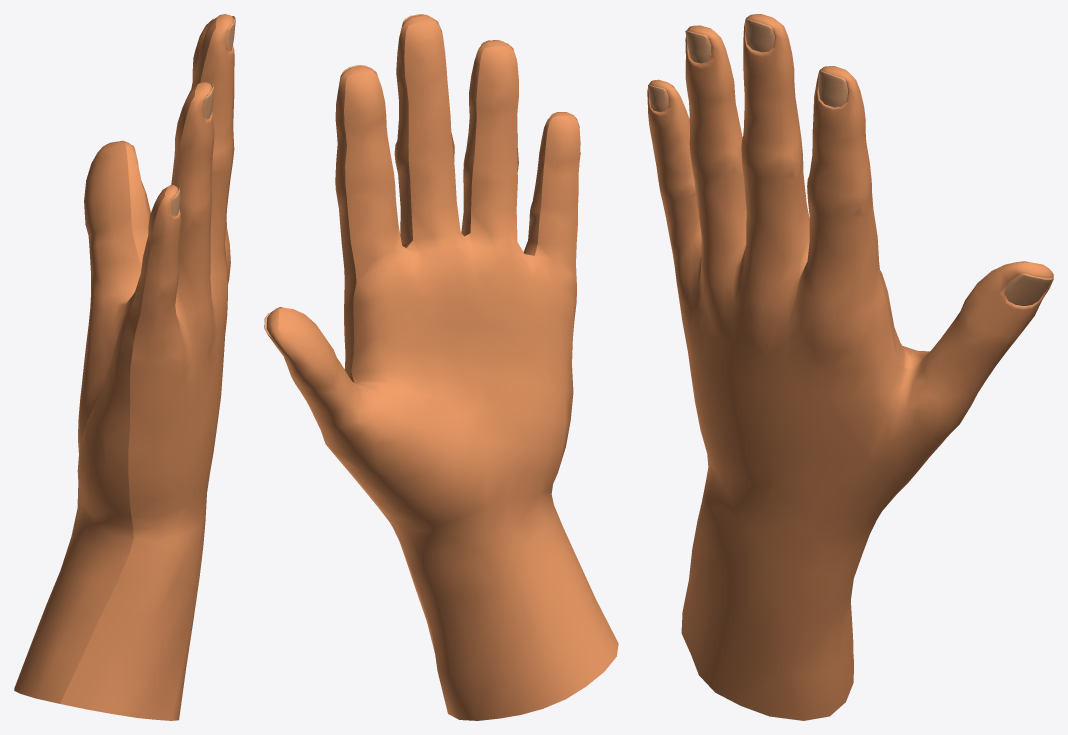
File: Hand-model.glb
3 renders of one model, left to right at view 1: azimuth 30°, elevation 25°; view 2: azimuth 150°, elevation 25°; view 3: azimuth 270°, elevation 25°, orthographic. The views are drawn at different scales.
Parts seen in each view (by area): view 1: Arm.3; view 2: Arm.3; view 3: Arm.3.
Part boxes in pixels (left/top/right/bottom): Arm.3: left=14, top=14, right=235, bottom=720; Arm.3: left=264, top=14, right=618, bottom=720; Arm.3: left=647, top=14, right=1053, bottom=720.
Size of the model in its own units: 0.1426 by 0.3863 by 0.1943.
Materials: 1 (1 with a texture image).
